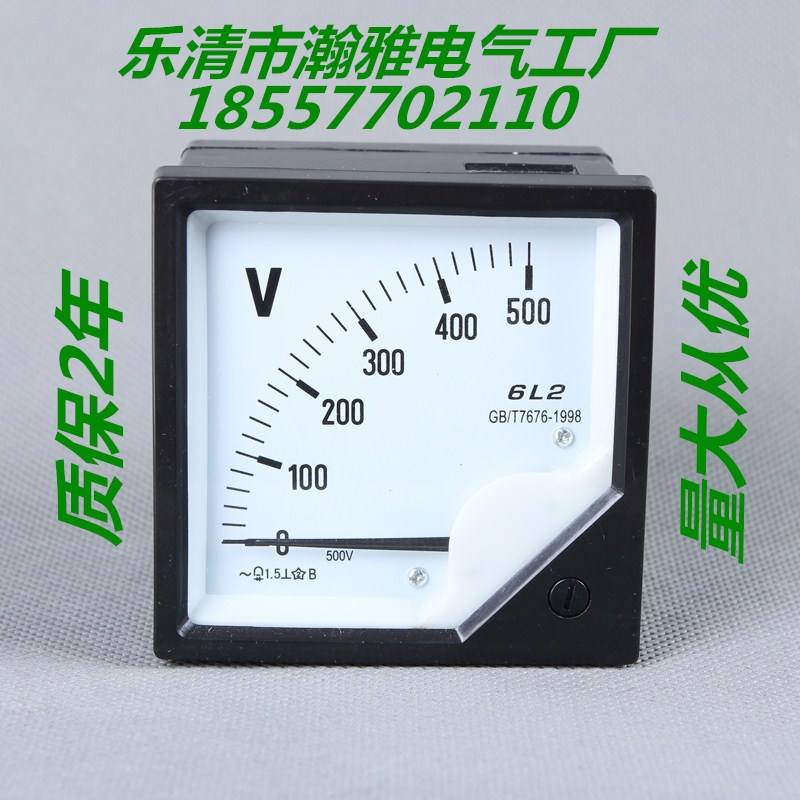pointer: (186, 200, 625, 628)
